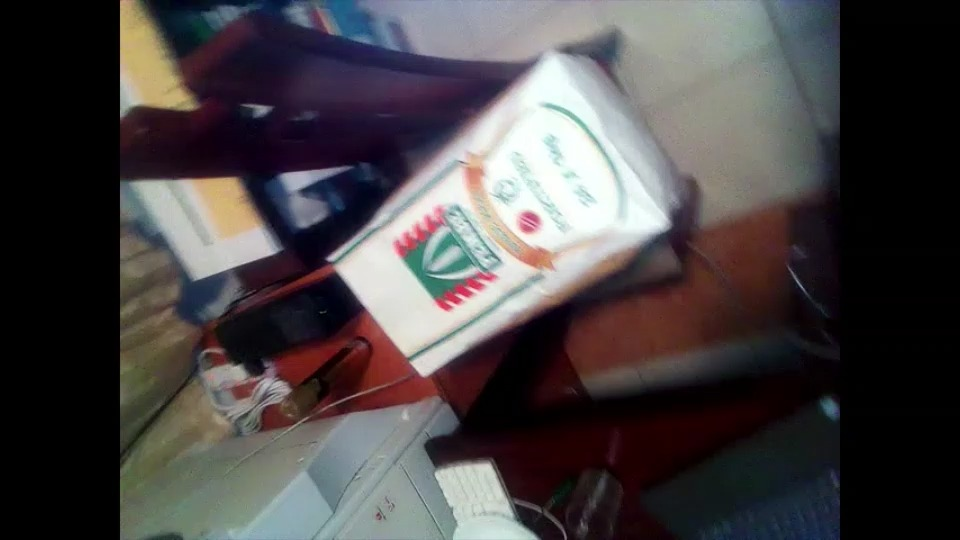maize_flour_green_label: (315, 51, 677, 364)
